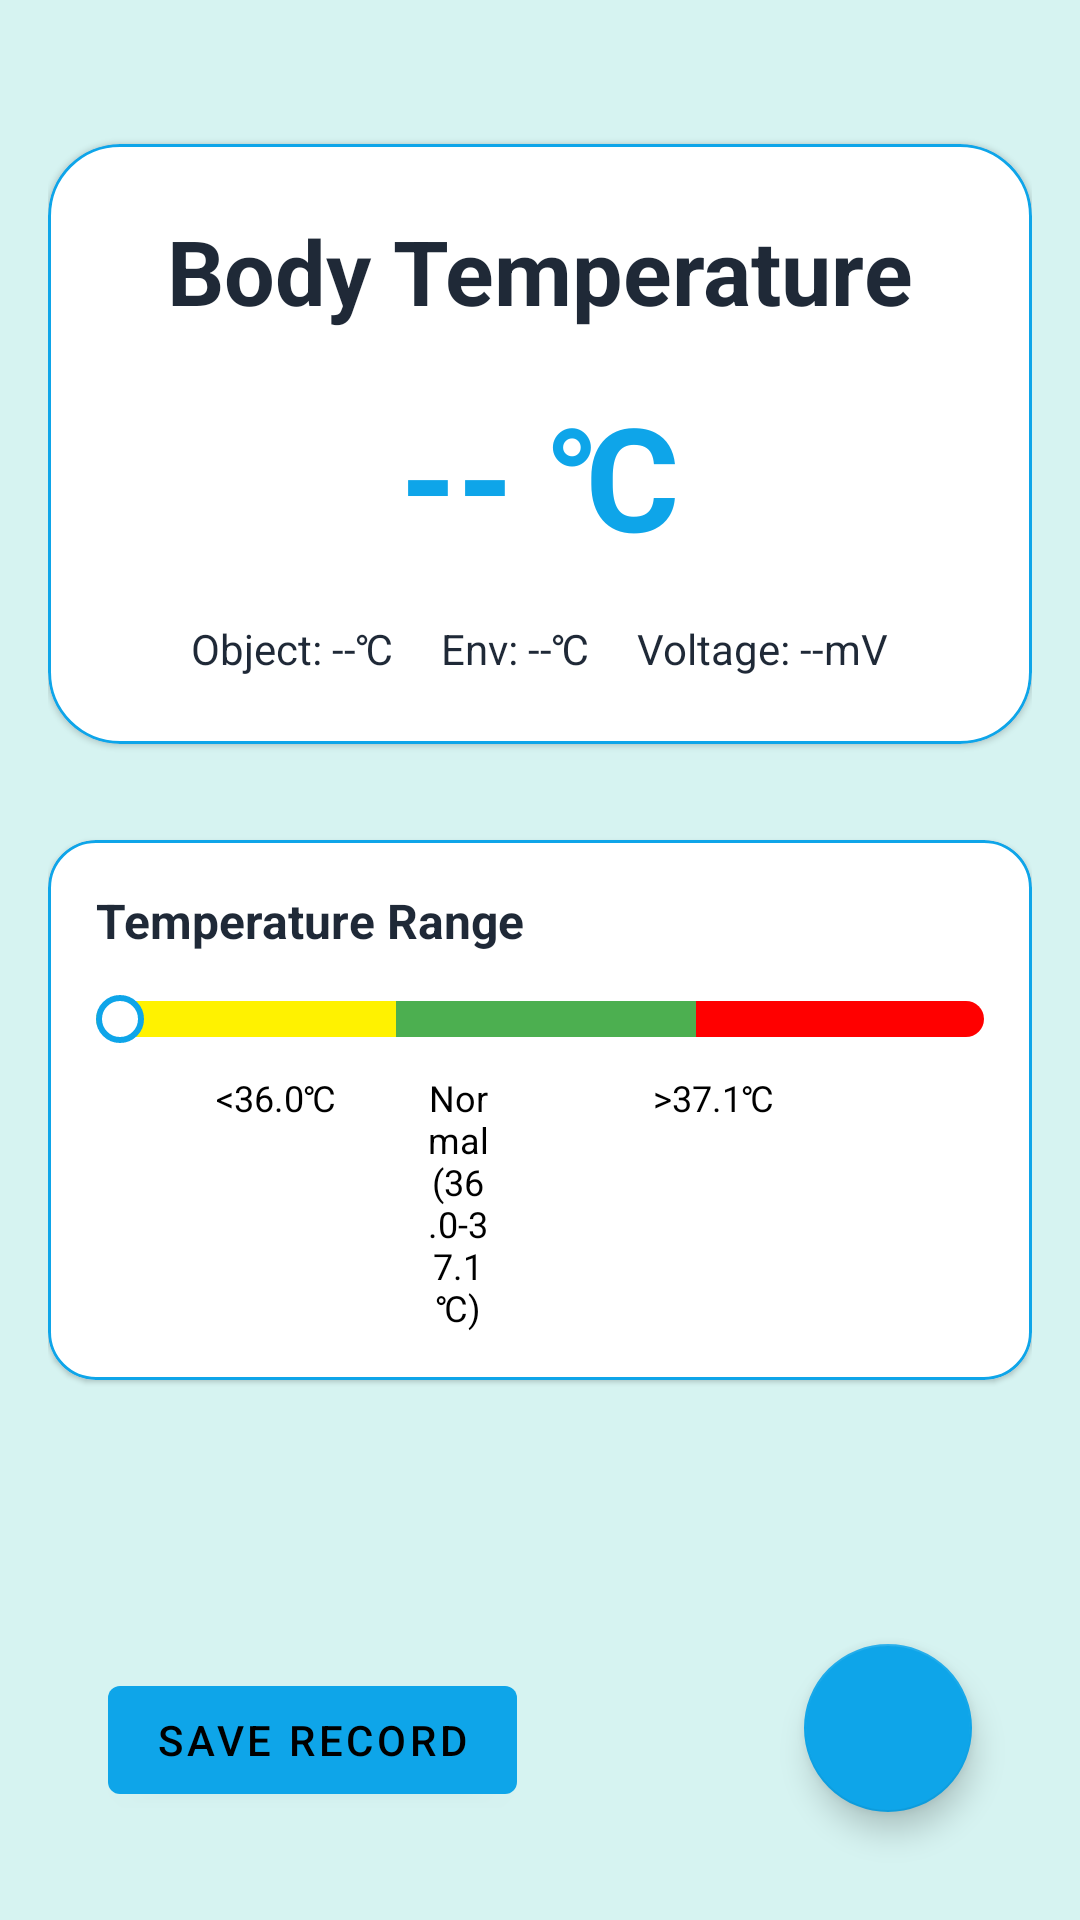

Icons on this 1080×1920 Android screen, each with its box as (x1, y1, x2, y2):
circle pointer: (96, 995, 144, 1043)
